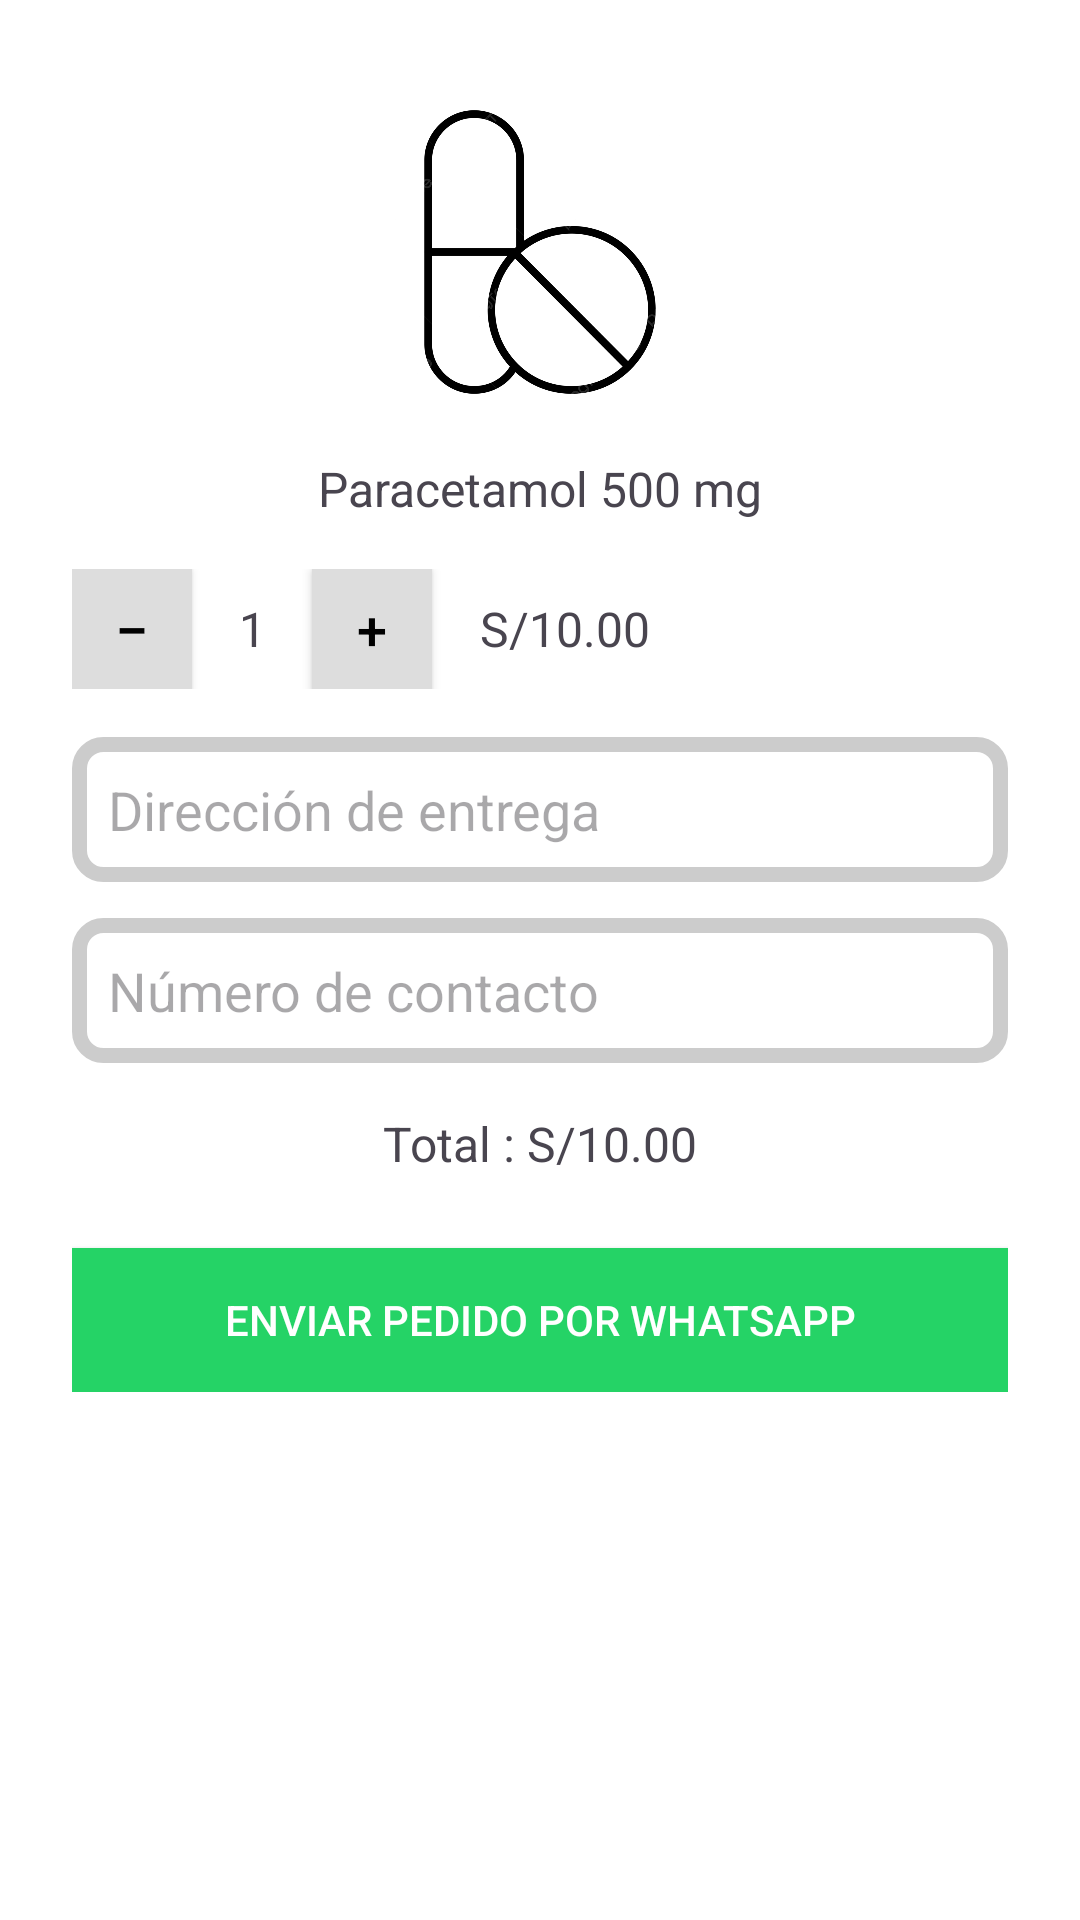

Named icons in this screenshot (1080×1920) and their centers, (x=x, y=y):
Imagen medicamento: (x=540, y=252)
